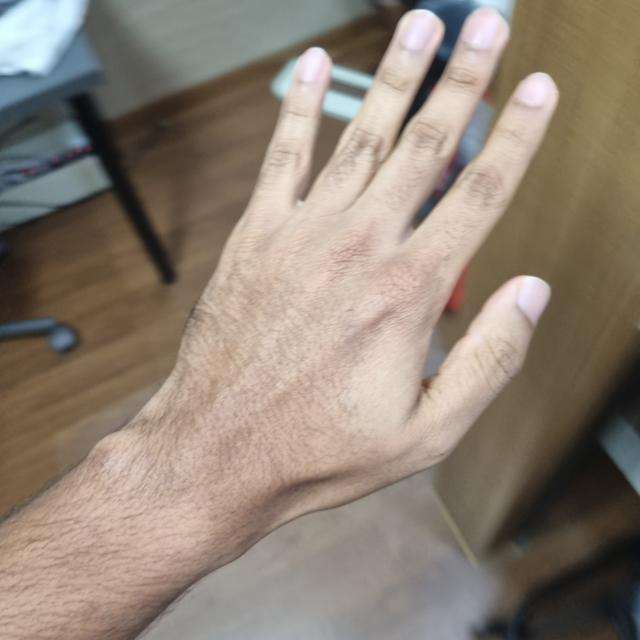Paper: (167, 7, 551, 518)
